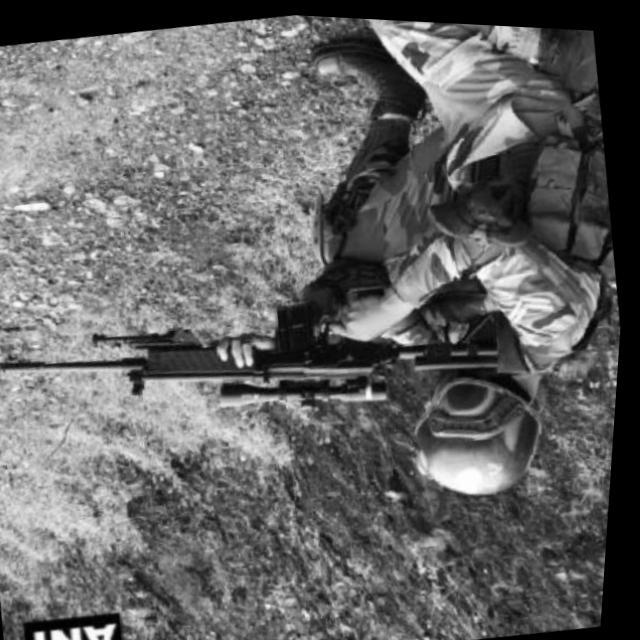weapon: (0, 252, 549, 466)
